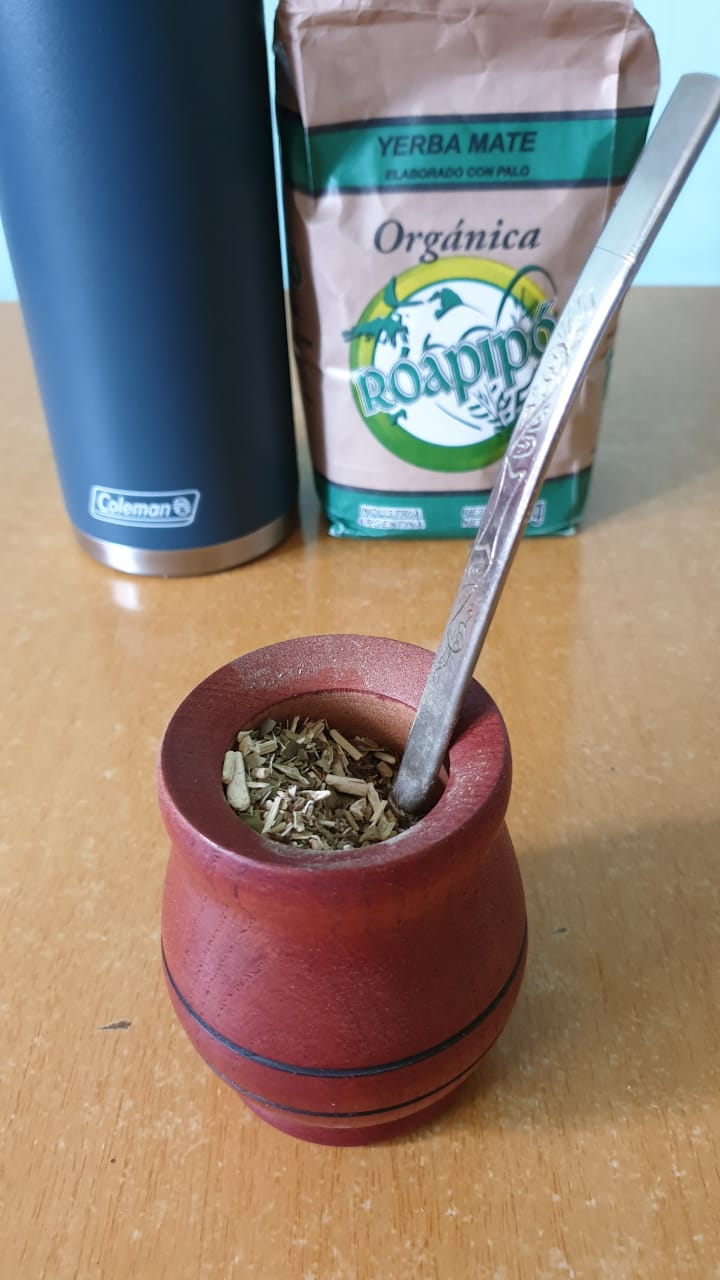madera: (137, 638, 572, 1144)
mate: (128, 623, 583, 1163)
